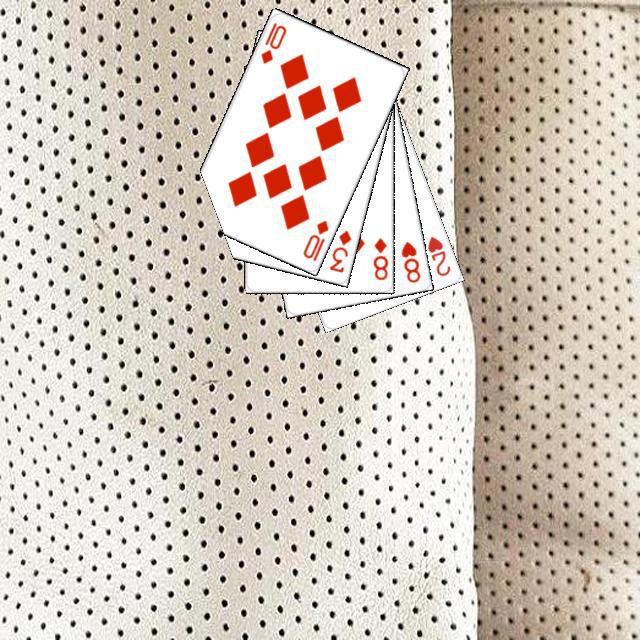10d: (298, 215, 330, 263), (256, 17, 288, 65)
2h: (423, 231, 452, 278)
3d: (324, 225, 353, 274)
8d: (368, 233, 389, 281)
8h: (396, 236, 422, 284)
